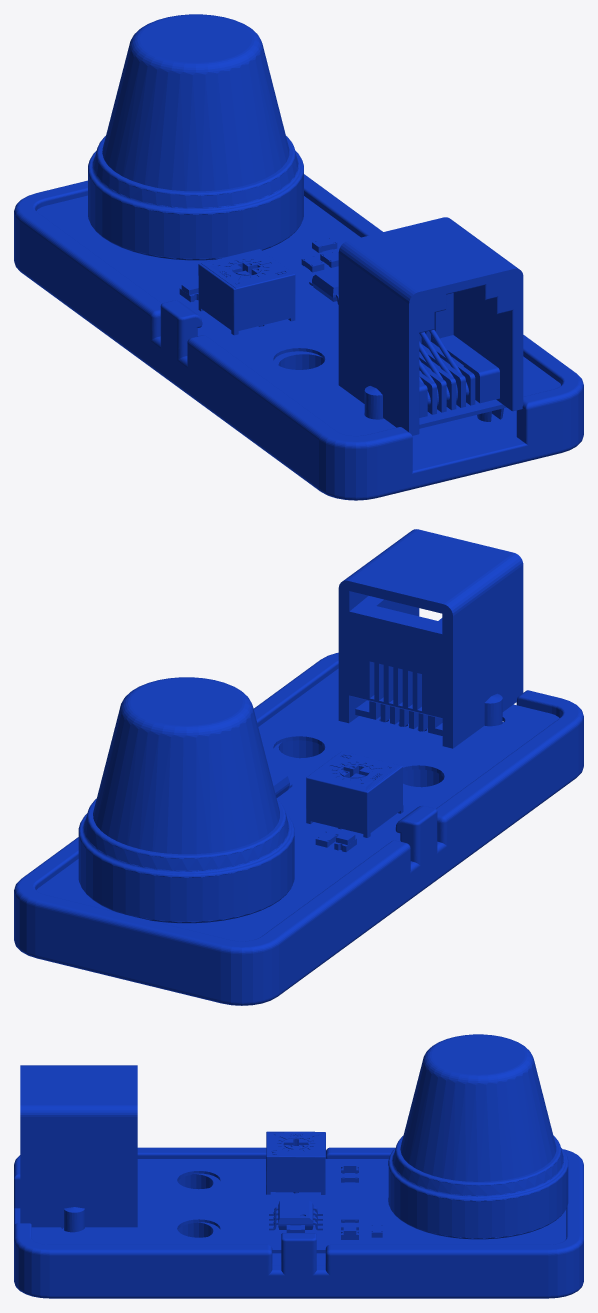
Rendered from Gas_Sensor.glb.
3 renders of one model, top to bottom at view 1: azimuth 30°, elevation 25°; view 2: azimuth 150°, elevation 25°; view 3: azimuth 270°, elevation 25°, orthographic. The views are drawn at different scales.
Visible parts, largest first — view 1: defaultobject; view 2: defaultobject; view 3: defaultobject.
Boxes of the visible parts, x1,y1,x2,y2 form: defaultobject: [14, 14, 583, 500]; defaultobject: [14, 529, 583, 1005]; defaultobject: [14, 1034, 583, 1298].
Bounding box in the file's own units: 68.82 × 59.13 × 157.
